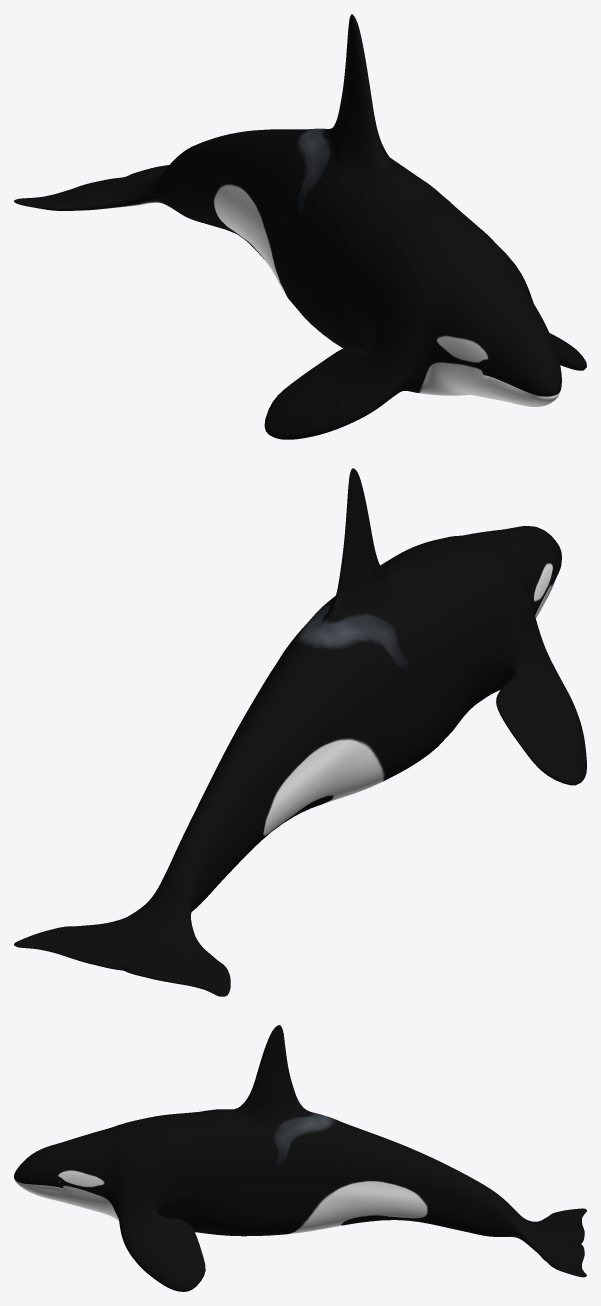
Rendered from orca.glb.
The picture shows the model from 3 angles, top to bottom: view 1: azimuth 30°, elevation 25°; view 2: azimuth 150°, elevation 25°; view 3: azimuth 270°, elevation 25°; orthographic projection. The views are drawn at different scales.
Visible parts, largest first — view 1: Cube.001; view 2: Cube.001; view 3: Cube.001.
Part boxes in pixels (left/top/right/bottom): Cube.001: left=14, top=14, right=586, bottom=439; Cube.001: left=14, top=468, right=586, bottom=996; Cube.001: left=14, top=1025, right=586, bottom=1291.
Bounding box in the file's own units: 26.21 × 26.98 × 63.45.
Materials: 1 (1 with a texture image).
